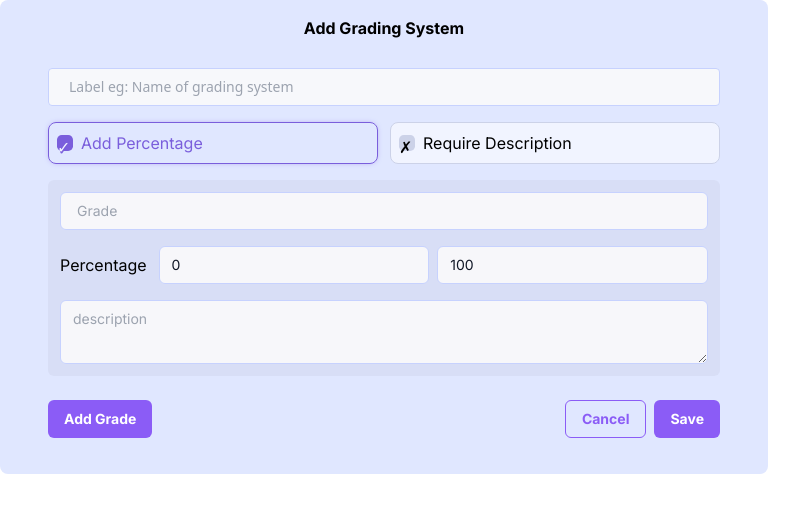
Test: AddGradingSystem › Form Validation › should show validation error for short name
Type "A" into the field with placeholder "Label eg: Name of grading system".
click(384, 87); type("A")  # box [48, 68, 720, 106]
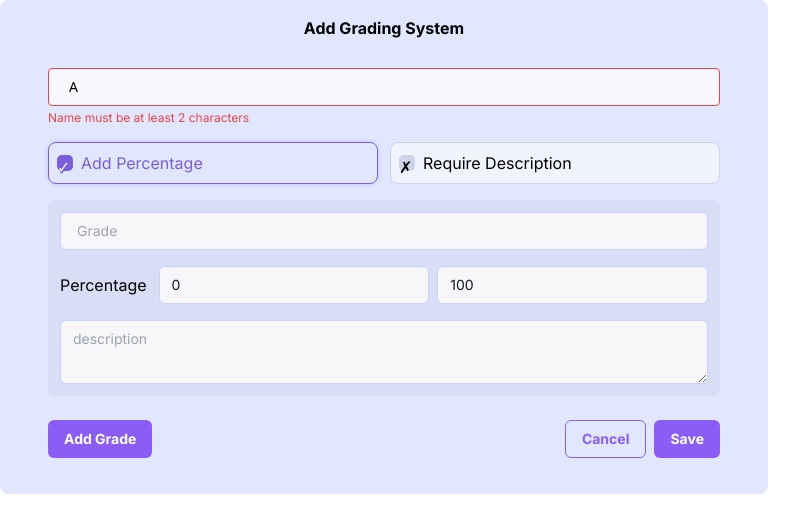
Expected: the text "Name must be at least 2 characters" is shown, [48, 110, 249, 125]
